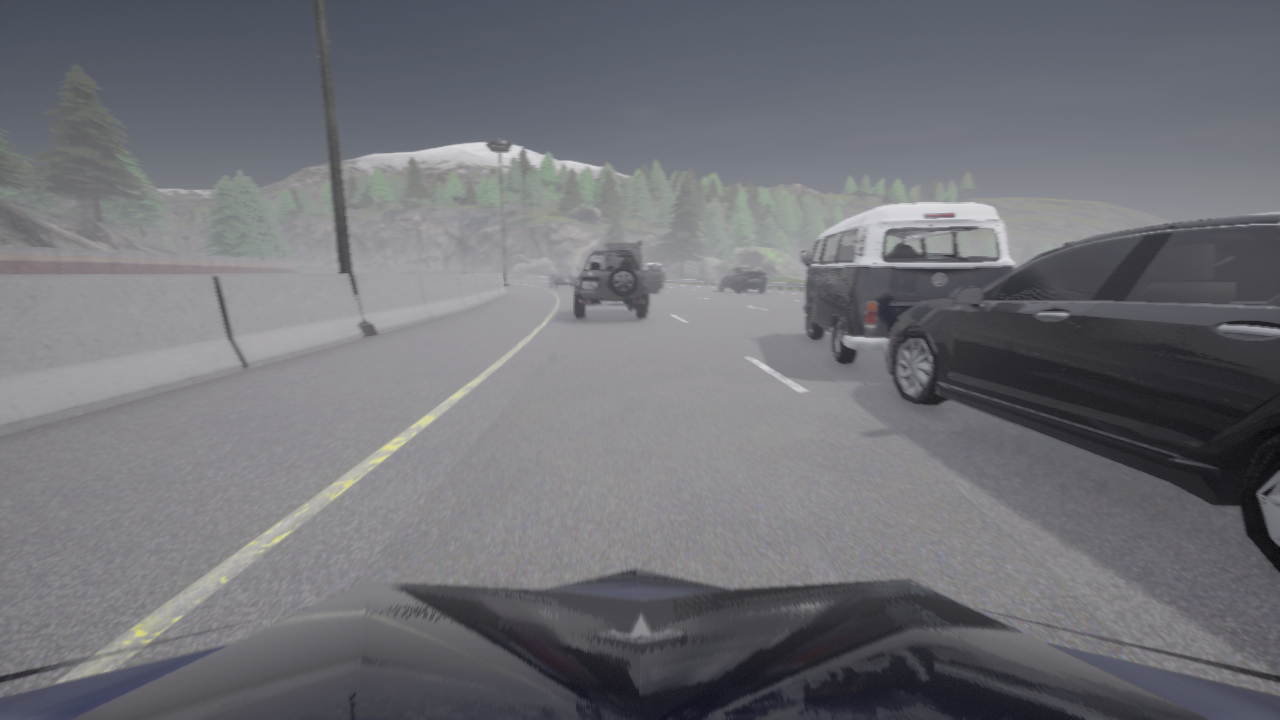cyclist: (0, 569, 1279, 719), (883, 210, 1279, 573), (800, 203, 1014, 364), (574, 250, 648, 319), (599, 240, 661, 292), (718, 268, 765, 292), (642, 263, 664, 288), (549, 271, 576, 288)
